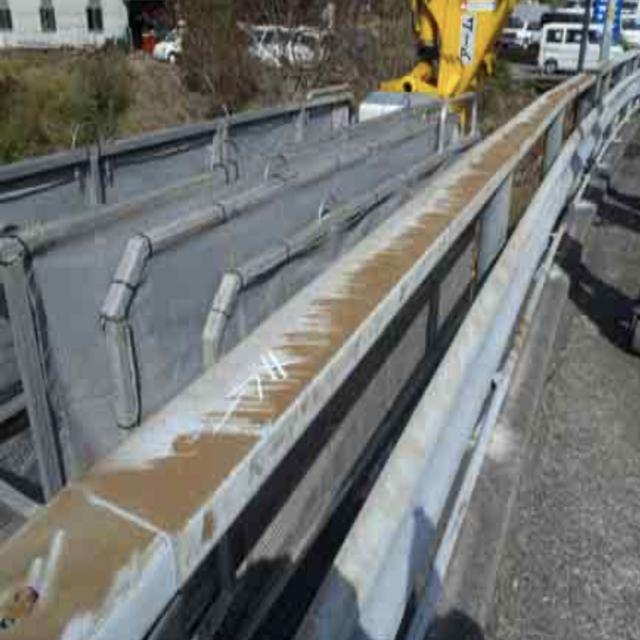corrosion: (116, 287, 370, 553), (387, 123, 494, 281)
